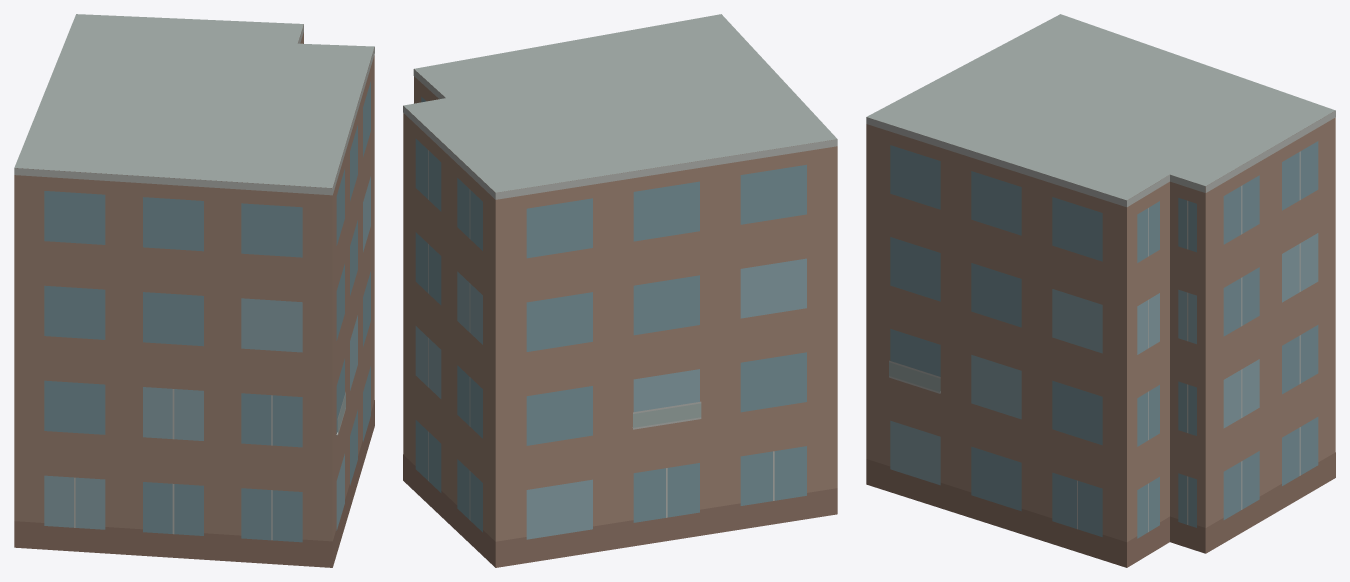
Rendered from survey-upis-32918830.glb.
3 views of the same model, side by side, from view 1: azimuth 30°, elevation 25°; view 2: azimuth 150°, elevation 25°; view 3: azimuth 270°, elevation 25° (orthographic). The views are drawn at different scales.
Visible parts, largest first — view 1: survey-upis-32918830.tmp; view 2: survey-upis-32918830.tmp; view 3: survey-upis-32918830.tmp.
Boxes of the visible parts, box(x1,y1,x2,y2) form: survey-upis-32918830.tmp: box(14, 14, 374, 567); survey-upis-32918830.tmp: box(403, 14, 837, 567); survey-upis-32918830.tmp: box(866, 14, 1335, 567).
Bounding box in the file's own units: 14.04 × 12.9 × 14.94.
